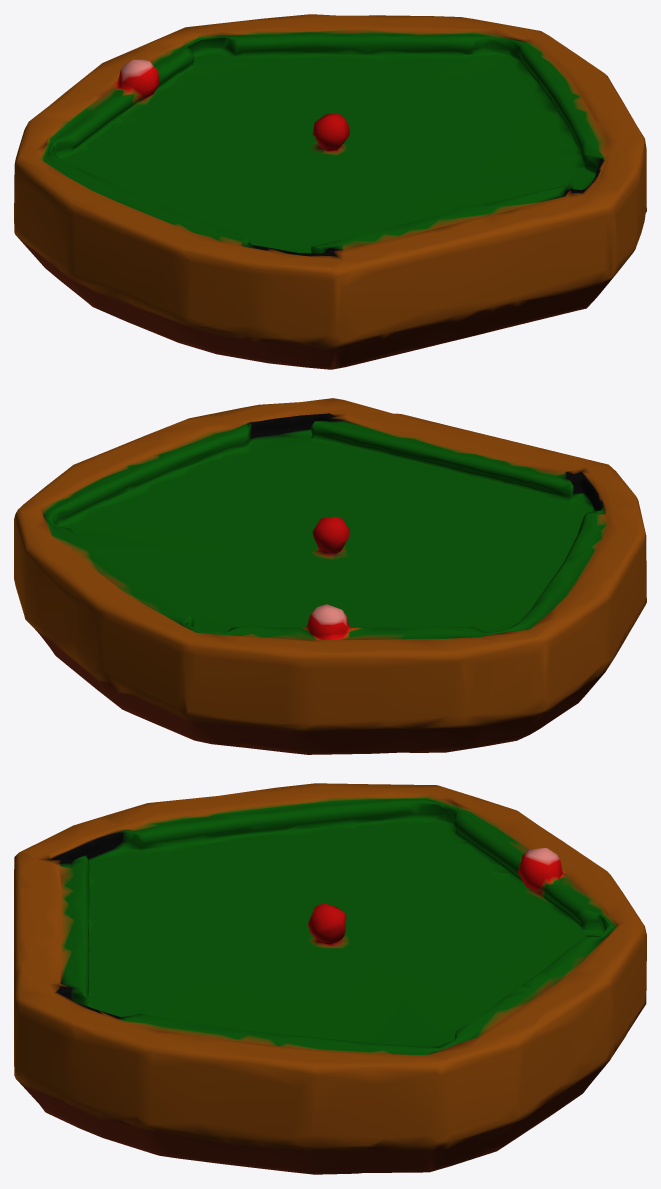
Rendered from gen3d-billiard-lod0.glb.
3 views of the same model, one above another, from view 1: azimuth 30°, elevation 25°; view 2: azimuth 150°, elevation 25°; view 3: azimuth 270°, elevation 25° (orthographic). The views are drawn at different scales.
Parts seen in each view (by area): view 1: part_0; view 2: part_0; view 3: part_0.
Part boxes in pixels (x1,y1,x2,y2): part_0: (14, 14, 646, 369); part_0: (14, 398, 646, 754); part_0: (14, 783, 646, 1174).
Size of the model in its own units: 4.15 by 0.9934 by 3.88.
